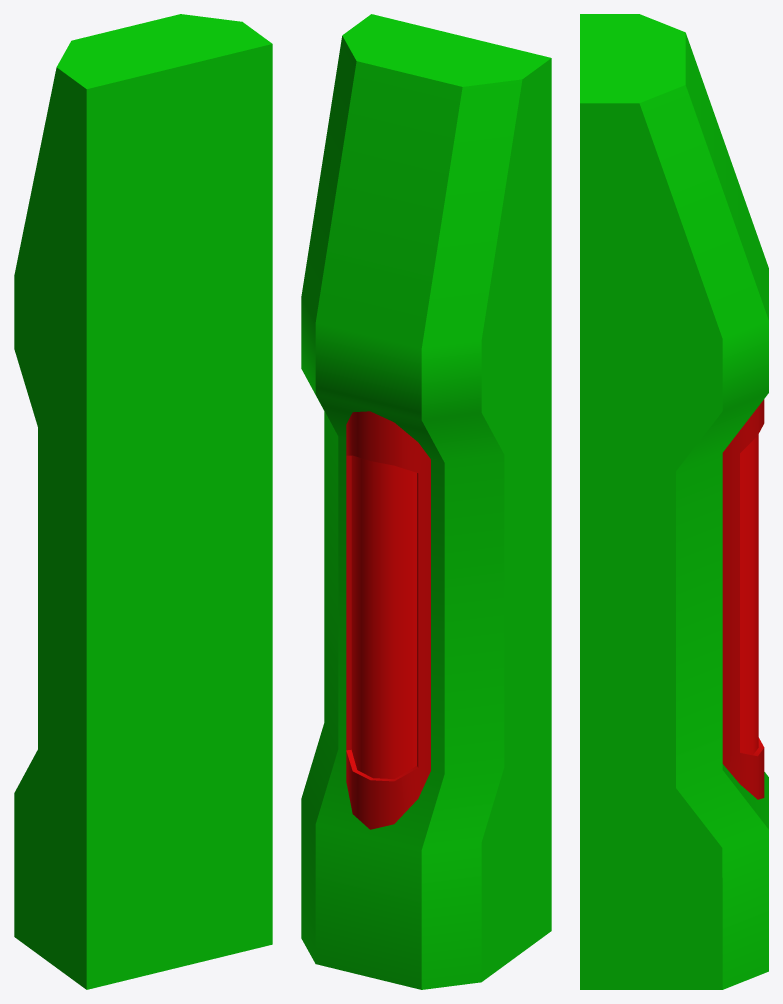
The model's file is SM_Modular_Barrier_Mount.fbx.
3 renders of one model, left to right at view 1: azimuth 30°, elevation 25°; view 2: azimuth 150°, elevation 25°; view 3: azimuth 270°, elevation 25°, orthographic. The views are drawn at different scales.
Visible parts, largest first — view 1: SM_Modular_Barrier_Mount; view 2: SM_Modular_Barrier_Mount; view 3: SM_Modular_Barrier_Mount.
Boxes of the visible parts, bbox=[...] form: SM_Modular_Barrier_Mount: bbox=[14, 14, 272, 989]; SM_Modular_Barrier_Mount: bbox=[301, 14, 551, 989]; SM_Modular_Barrier_Mount: bbox=[580, 14, 768, 989].
Size of the model in its own units: 19.8 by 91.67 by 17.68.
